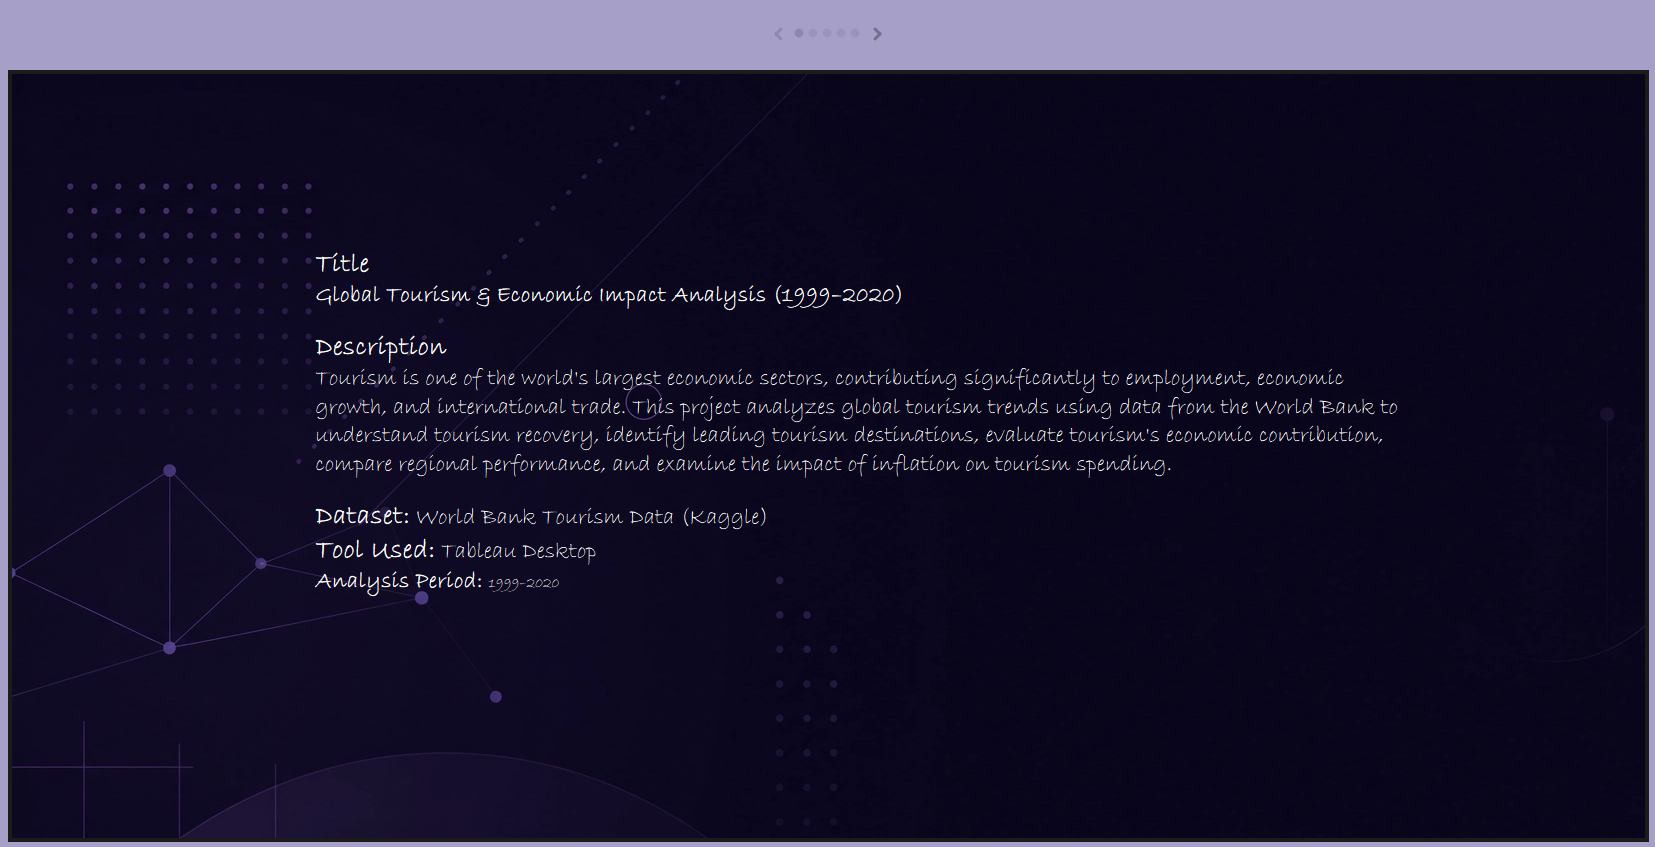

What the dashboard file says about the page in this screenshot:
{"tool":"tableau","page":{"name":"Project Overview","canvas":[1000,1000],"units":"permille","ordinal":3},"visuals":[{"type":"image","param":"Image/purple_data_visualization.png","box":[0,0,1000,1000]},{"type":"text","box":[183,225.6,678.6,491.2]}]}

Visuals, with their boxes on the dashboard's canvas, which has no fixed pixel size, in thousandths of its width and height (x1, y1, x2, y2). These are canvas units, not pixel positions in the 1655x847 screenshot, which may show the page scaled, cropped or inside an application window:
image: <region>0, 0, 1000, 1000</region>
text: <region>183, 226, 862, 717</region>
